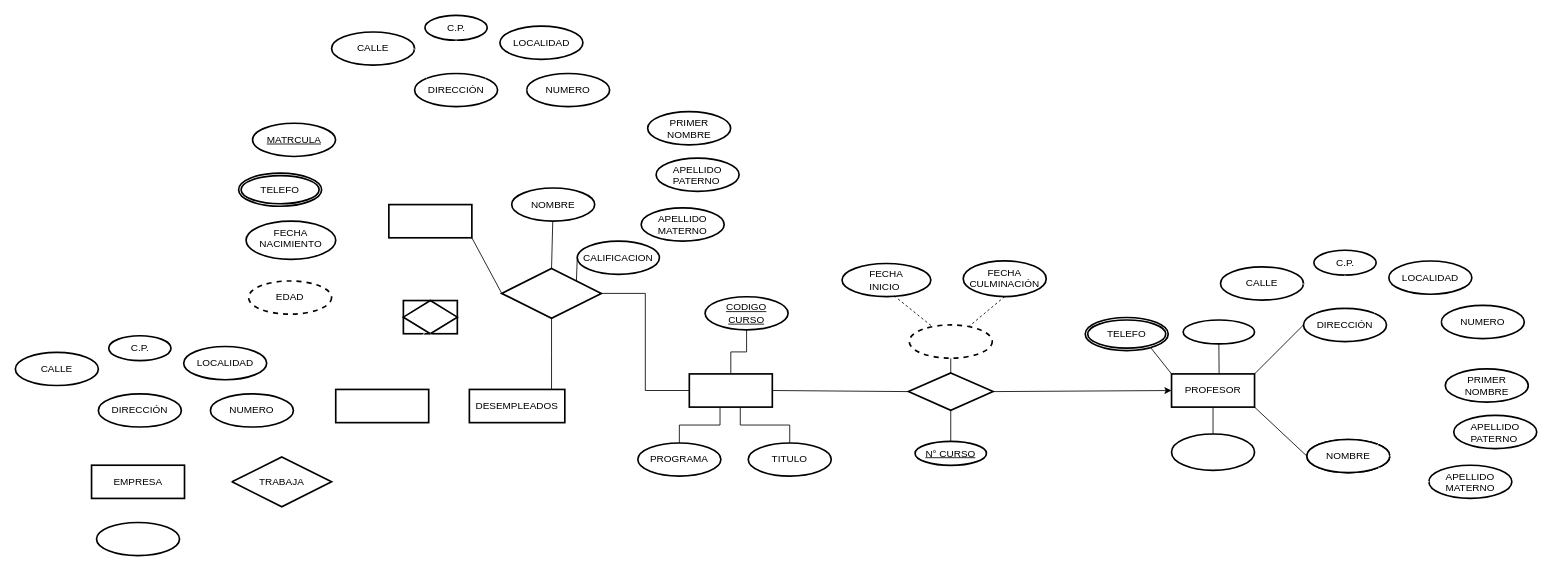
This 1551x570 diagram has some shape labels left out. Each missing label, with the box of its shape:
ALUMNO: (388, 203, 472, 238)
clase: (402, 299, 458, 334)
CURSO: (688, 373, 773, 408)
DURACIONEN HORAS: (908, 324, 993, 359)
ID_PROF.: (1182, 319, 1255, 344)
ID_PROFESOR: (1170, 433, 1255, 471)
IMPARTIDO: (907, 372, 994, 411)
RECIBEN: (500, 267, 602, 319)
RFC: (95, 521, 180, 556)
TRABAJADORES: (334, 388, 429, 423)
